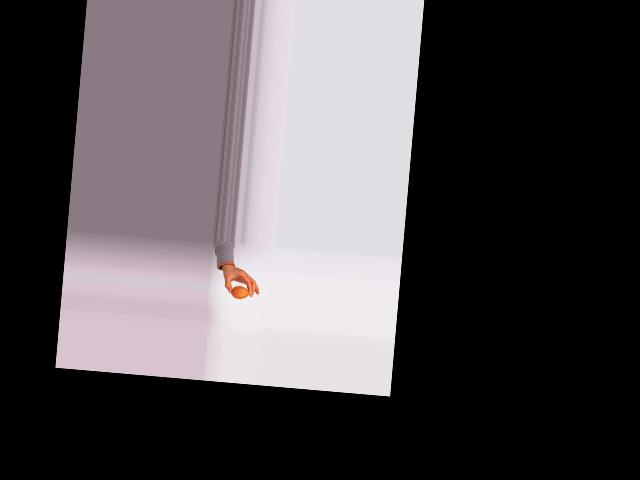egg: (231, 286, 249, 300)
